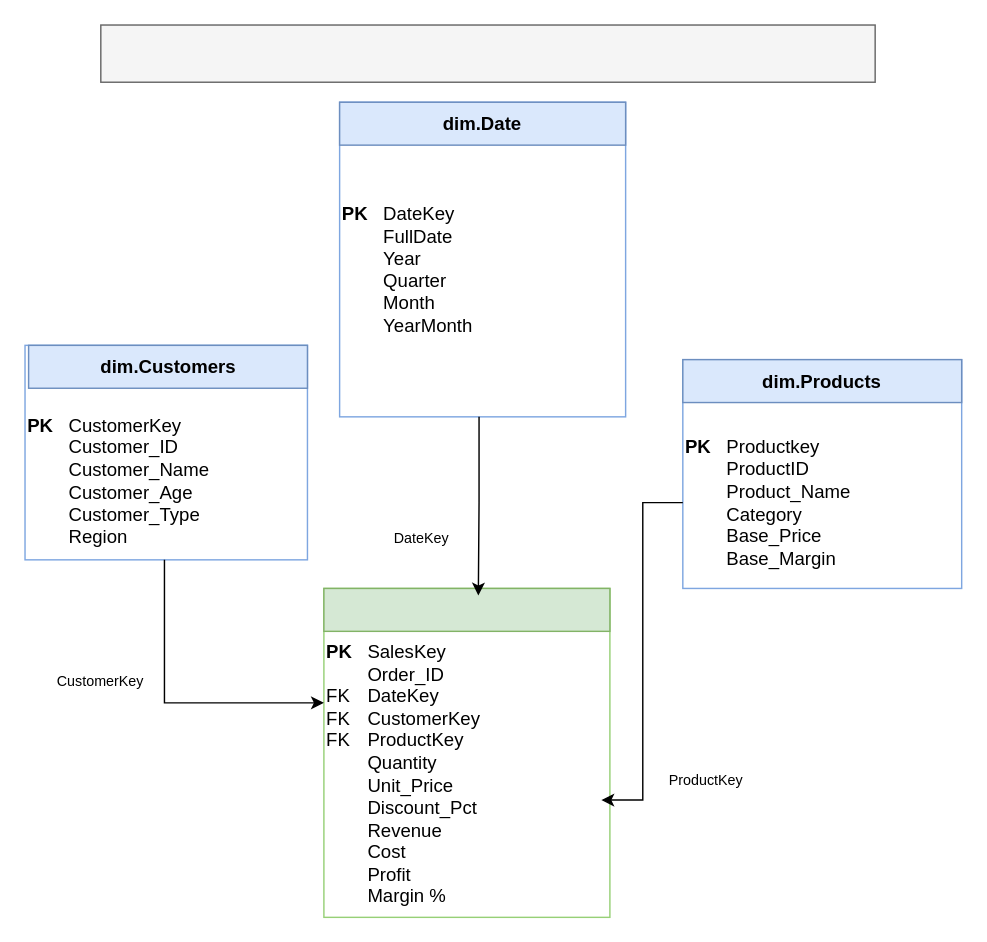
Image size: 987x942. Some labels were removed from this diagram. The shapes that lost their labels are listed below. From the top down, each one's centre as x and y in pixels, then its label:
At (x=487, y=53): "ERD Entity Relationship Diagram".
At (x=466, y=609): "fact.Sales_data".
